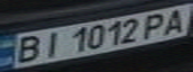0: (87, 21, 109, 51)
1: (103, 18, 127, 47), (66, 25, 90, 53)
2: (118, 16, 148, 44)
A: (157, 7, 193, 35)
B: (6, 34, 48, 65)
I: (33, 29, 66, 58)
P: (136, 10, 175, 39)
